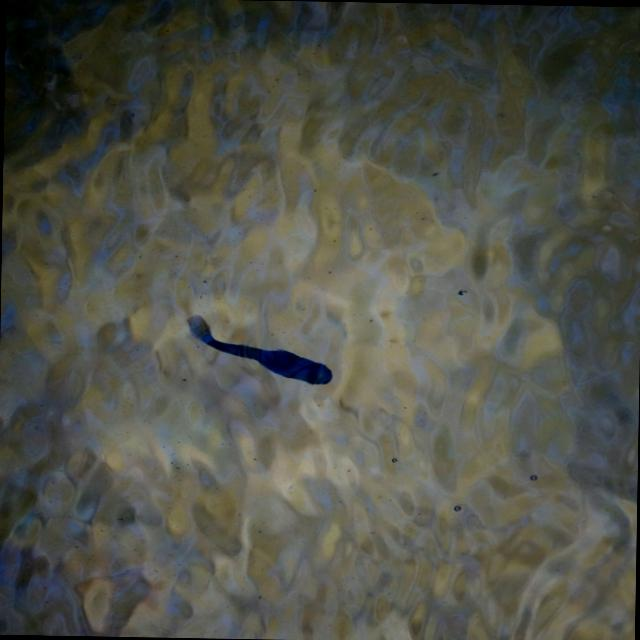Sivrisinek Baligi: (175, 302, 347, 396)
